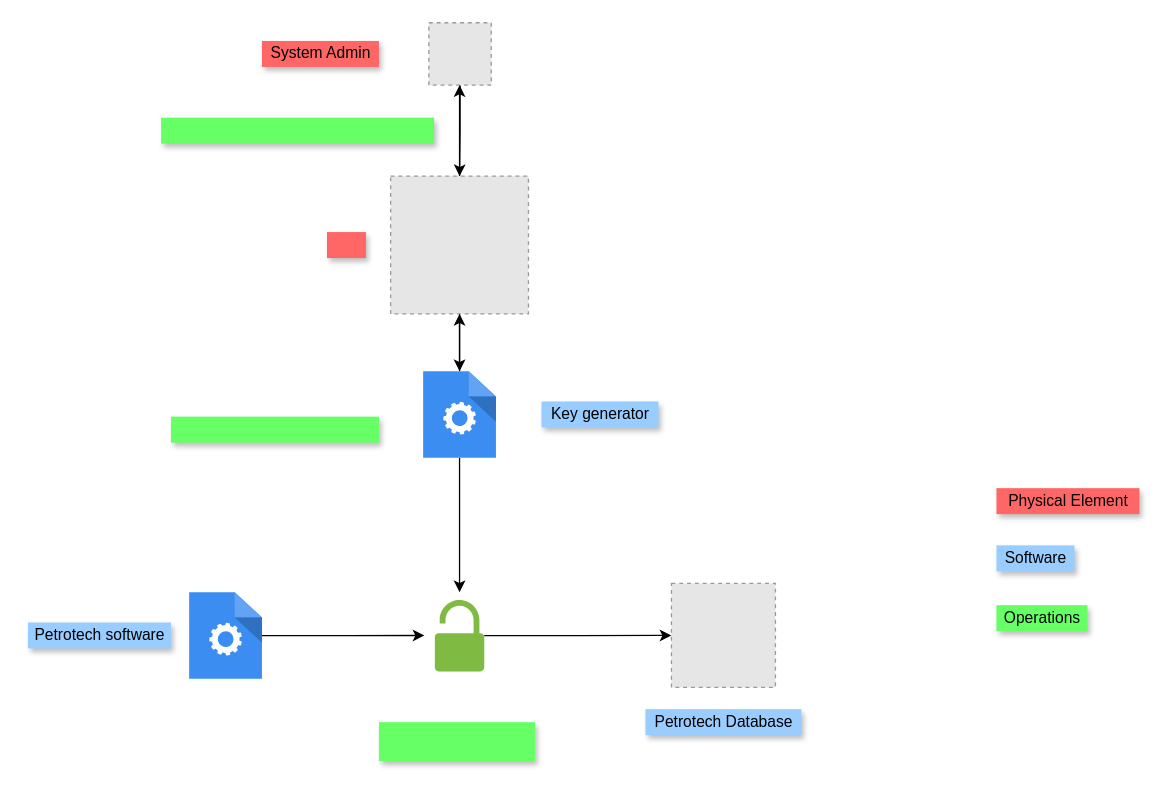
The diagram is 1169 pixels wide and 793 high, and some of its shapes have lost their labels. Grey dashed boxes stand in for pictures. Here are the shapes that lost their labels. From the top down, the centre of each, then its label:
[298,132]: Enter database server/user/password
[347,246]: PC
[275,431]: generate encrypted key file
[457,743]: Service access DB by key file
